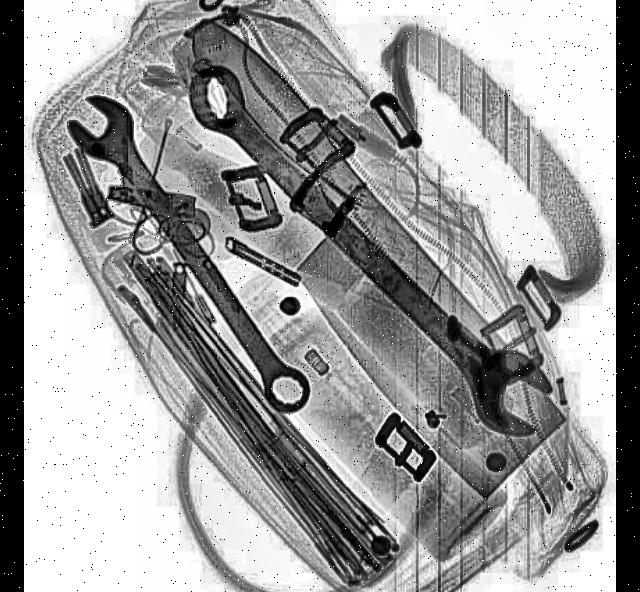Knife: (132, 2, 570, 518)
Wrench: (169, 47, 565, 458), (61, 81, 321, 431)
